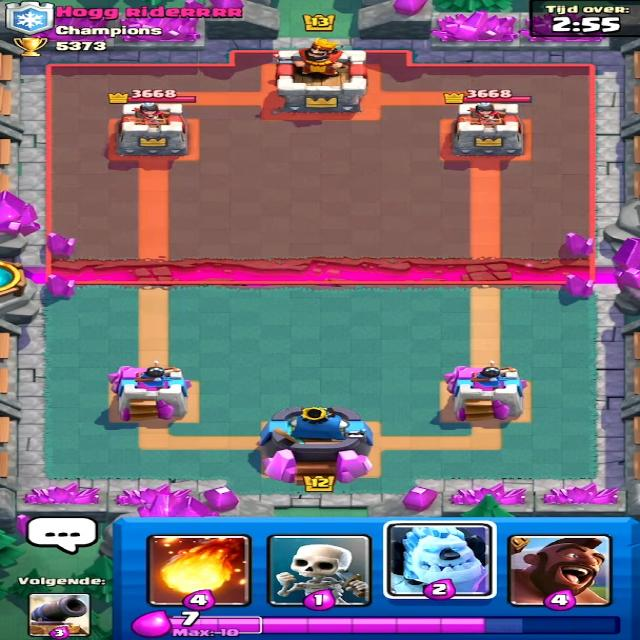Fireball_Card: (143, 533, 250, 609)
Hog_Rider_Card: (510, 535, 616, 605)
Ice_Golem_Card: (384, 522, 495, 601)
Skeleton_Card: (267, 536, 370, 609)
